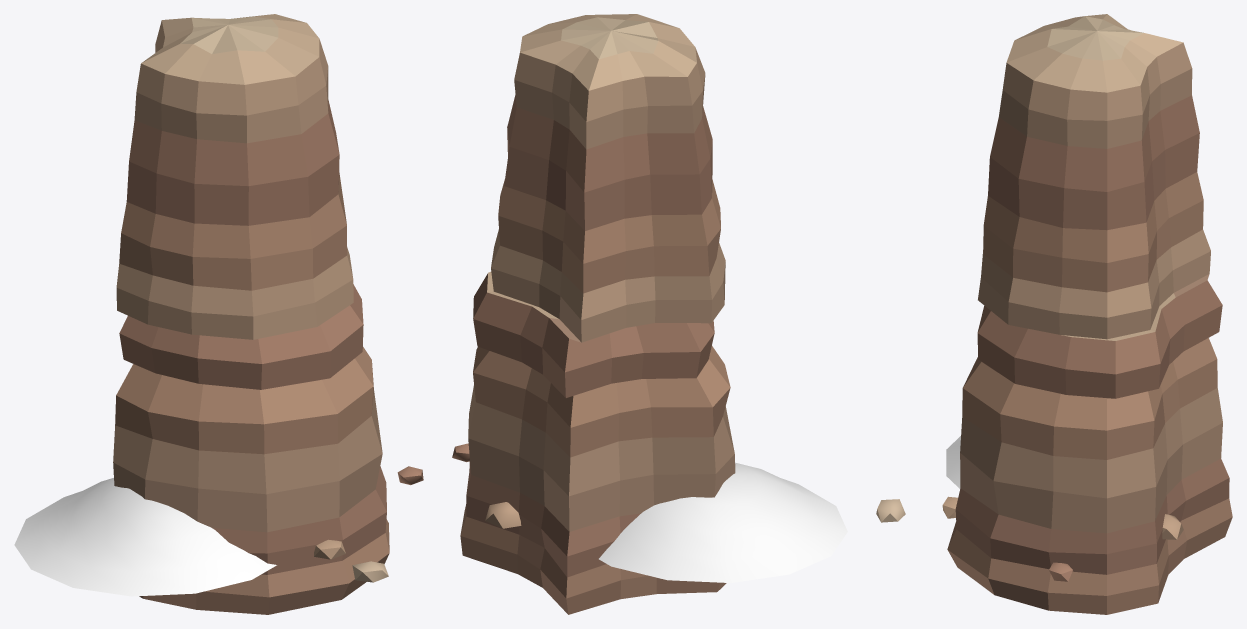
Rendered from roca_canon_a.glb.
3 views of the same model, side by side, from view 1: azimuth 30°, elevation 25°; view 2: azimuth 150°, elevation 25°; view 3: azimuth 270°, elevation 25° (orthographic). The views are drawn at different scales.
Visible parts, largest first — view 1: roca_canon_a, roca_canon_a_arena; view 2: roca_canon_a, roca_canon_a_arena; view 3: roca_canon_a, roca_canon_a_arena.
Part boxes in pixels (x1,y1,x2,y2): roca_canon_a: [113, 14, 423, 614]; roca_canon_a_arena: [14, 478, 276, 596]; roca_canon_a: [452, 14, 735, 614]; roca_canon_a_arena: [599, 462, 847, 582]; roca_canon_a: [876, 14, 1232, 614]; roca_canon_a_arena: [946, 436, 960, 488].
Size of the model in its own units: 7.89 by 10.44 by 6.53.
